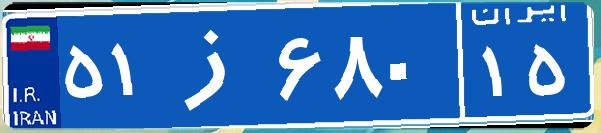0: (385, 28, 445, 110)
1: (475, 38, 525, 113), (110, 28, 158, 105)
5: (57, 26, 110, 107), (525, 38, 570, 115)
6: (273, 28, 330, 110)
8: (330, 28, 385, 110)
ز: (158, 15, 273, 115)
